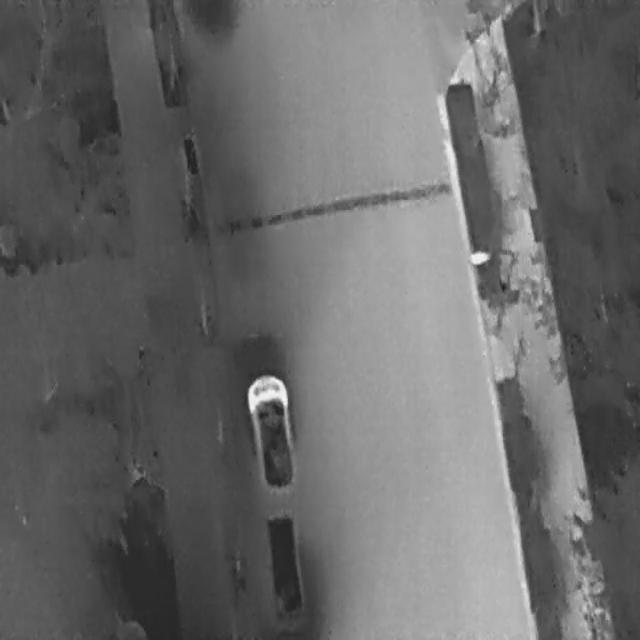Car: (243, 367, 302, 495), (263, 511, 305, 619)
